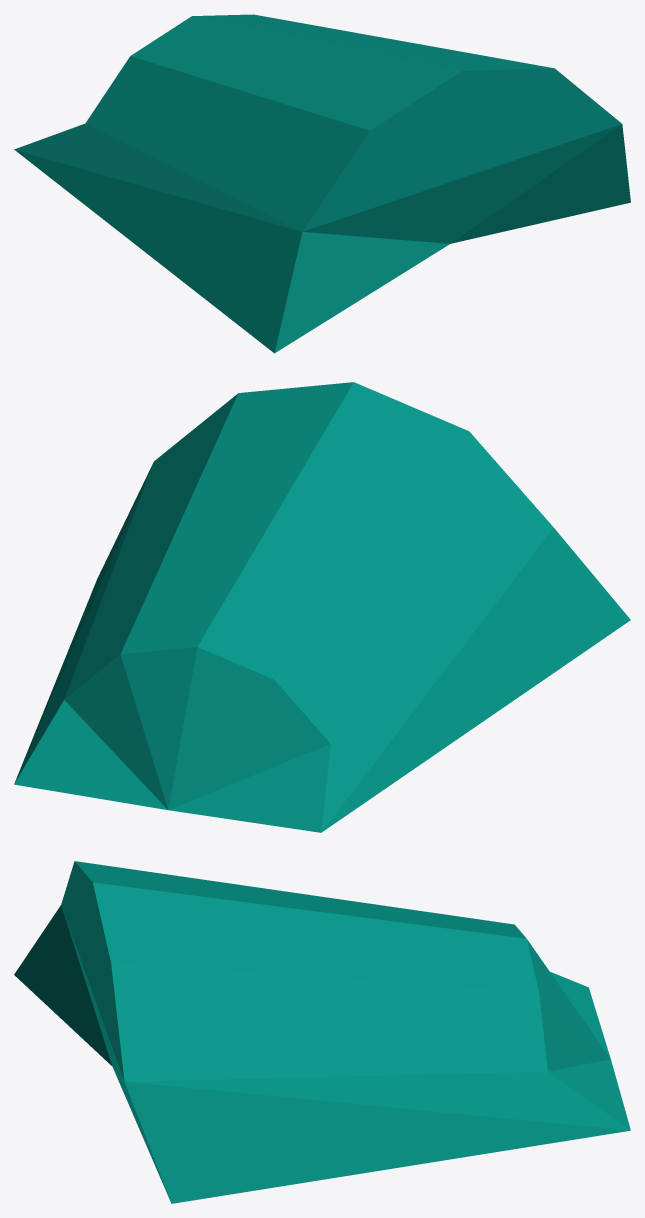
The model's file is n5_n5_group935806907_lev5.001.glb.
The picture shows the model from 3 angles, top to bottom: view 1: azimuth 30°, elevation 25°; view 2: azimuth 150°, elevation 25°; view 3: azimuth 270°, elevation 25°; orthographic projection. The views are drawn at different scales.
Parts seen in each view (by area): view 1: n5_n5_group935806907_lev5.001; view 2: n5_n5_group935806907_lev5.001; view 3: n5_n5_group935806907_lev5.001.
Part boxes in pixels (bbox=[...]): n5_n5_group935806907_lev5.001: bbox=[14, 14, 630, 353]; n5_n5_group935806907_lev5.001: bbox=[14, 382, 630, 832]; n5_n5_group935806907_lev5.001: bbox=[14, 861, 630, 1203].
Bounding box in the file's own units: 3.65 × 1.69 × 4.36.
